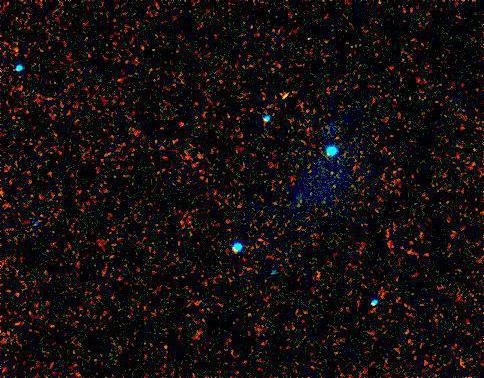star: (270, 80, 300, 110)
